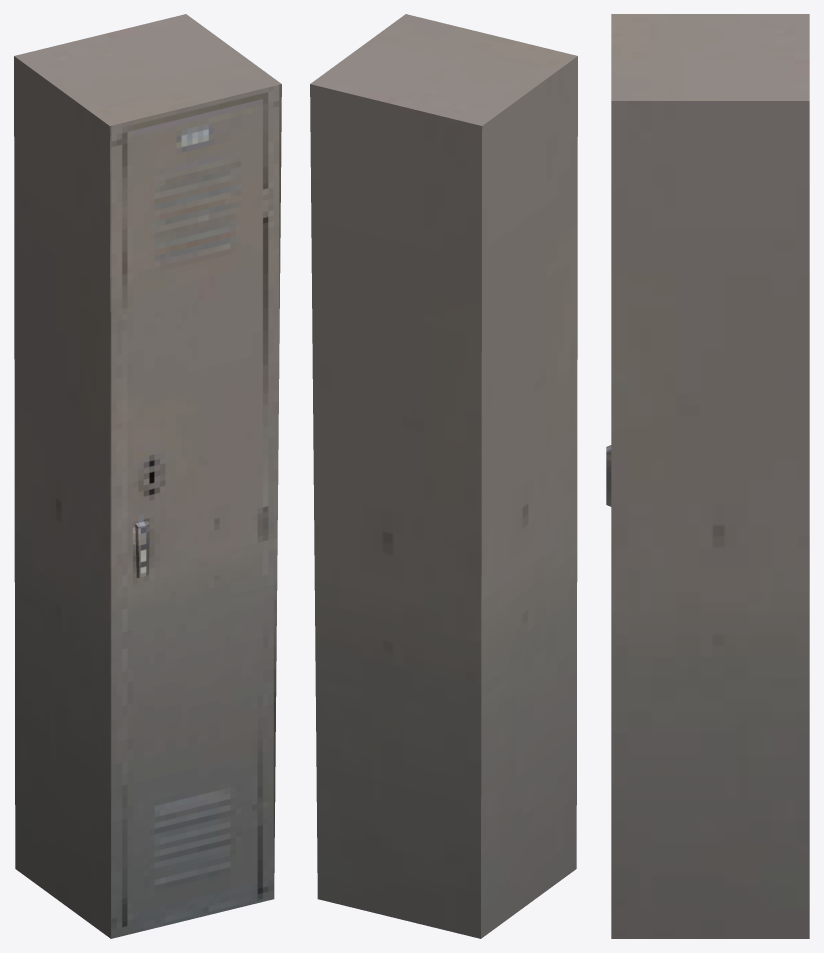
The model's file is Loker.fbx.
The picture shows the model from 3 angles, left to right: view 1: azimuth 30°, elevation 25°; view 2: azimuth 150°, elevation 25°; view 3: azimuth 270°, elevation 25°; orthographic projection. The views are drawn at different scales.
Parts seen in each view (by area): view 1: Cube.001; view 2: Cube.001; view 3: Cube.001.
Boxes of the visible parts, box(x1,y1,x2,y2) form: Cube.001: box(14, 14, 281, 938); Cube.001: box(310, 14, 577, 938); Cube.001: box(606, 14, 809, 938).
Bounding box in the file's own units: 165 × 744 × 163.
Materials: 1 (1 with a texture image).
